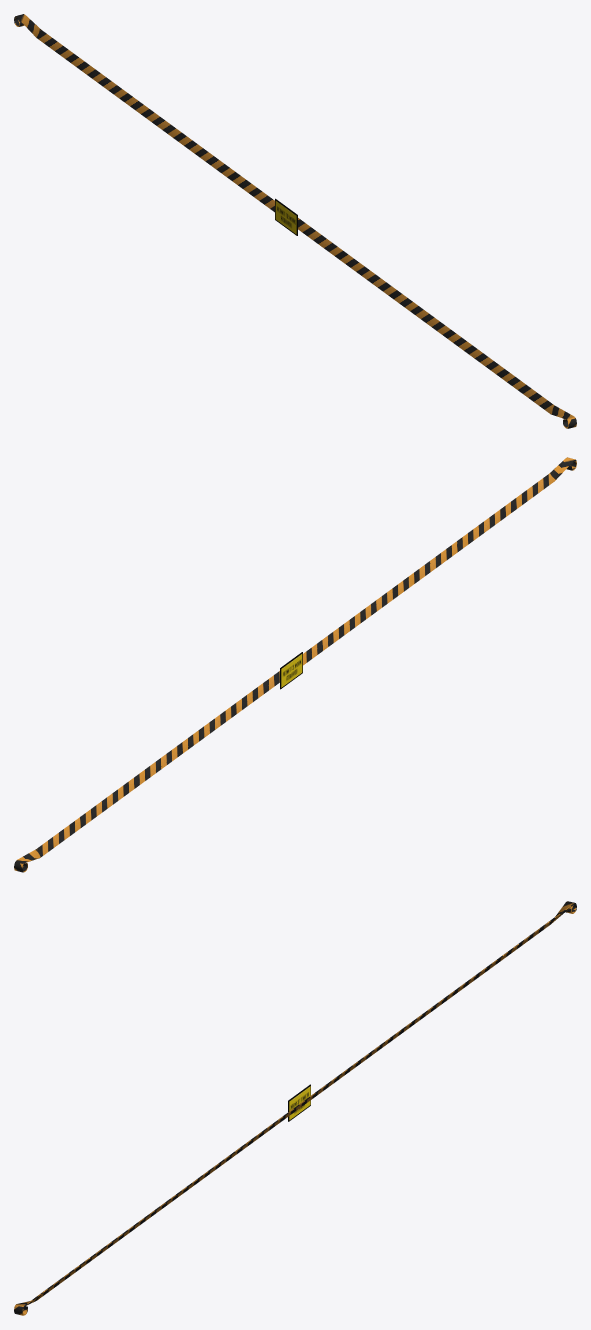
The model's file is Work permit signage.fbx.
The picture shows the model from 3 angles, top to bottom: view 1: azimuth 30°, elevation 25°; view 2: azimuth 150°, elevation 25°; view 3: azimuth 330°, elevation 25°; orthographic projection.
Parts seen in each view (by area): view 1: Plane; view 2: Plane; view 3: Plane.
Boxes of the visible parts, <box> form: Plane: <box>14,14,576,428</box>; Plane: <box>14,457,576,872</box>; Plane: <box>14,901,576,1315</box>.
Bounding box in the file's own units: 4.63 × 10.61 × 510.
Materials: 2 (2 with a texture image).
